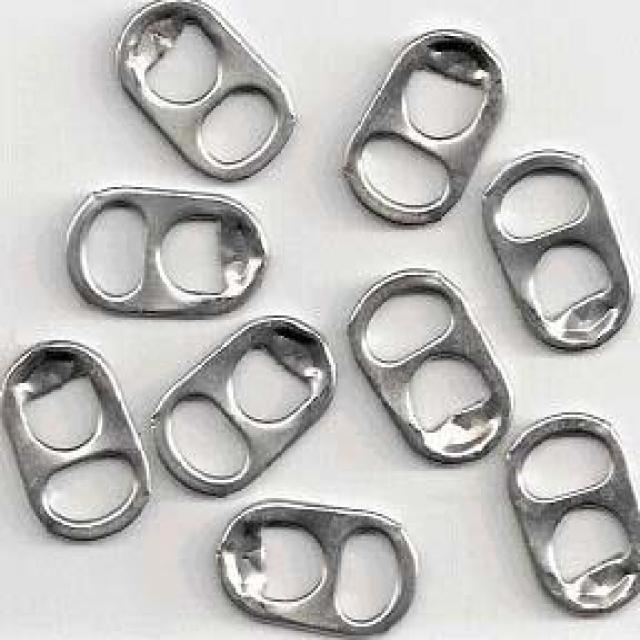pop tab: (149, 311, 341, 501), (344, 22, 512, 232), (344, 264, 515, 469), (111, 0, 296, 184), (480, 146, 640, 358), (0, 333, 157, 543), (63, 178, 274, 320), (216, 496, 422, 640), (502, 408, 640, 622)
